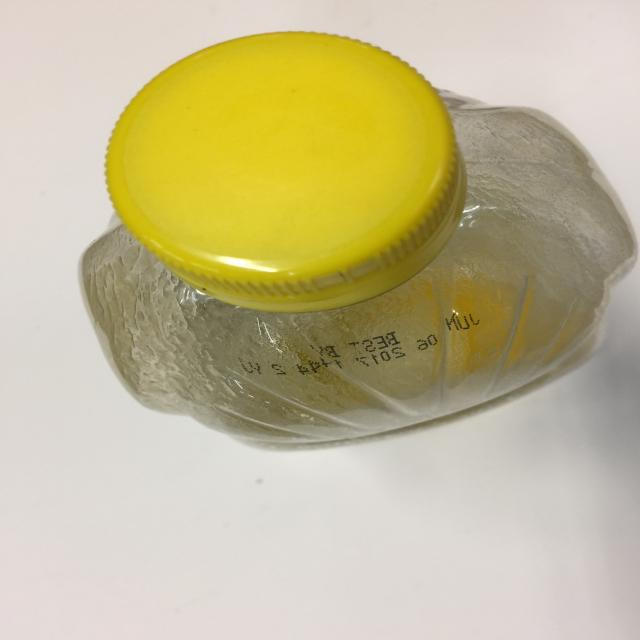plastic: (79, 54, 638, 446)
